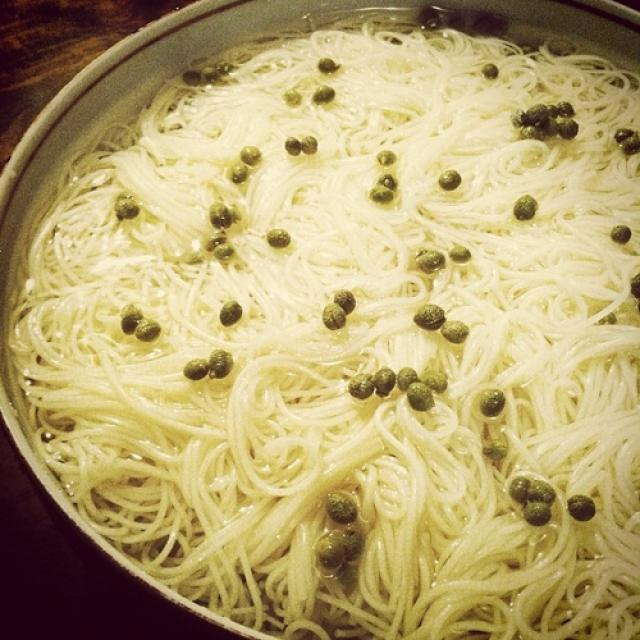面条主食: (8, 16, 630, 628)
